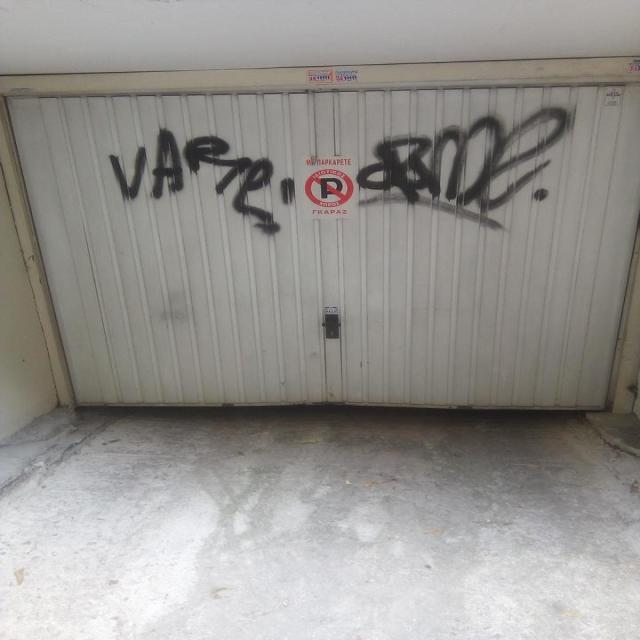nonspitting: (357, 104, 571, 232), (110, 127, 295, 236)
